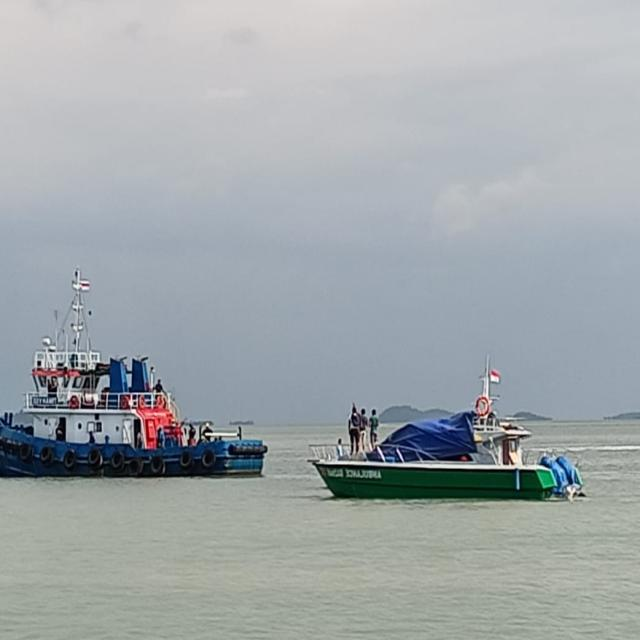fishing boat: (0, 296, 262, 480)
houseboat: (309, 370, 588, 506)
